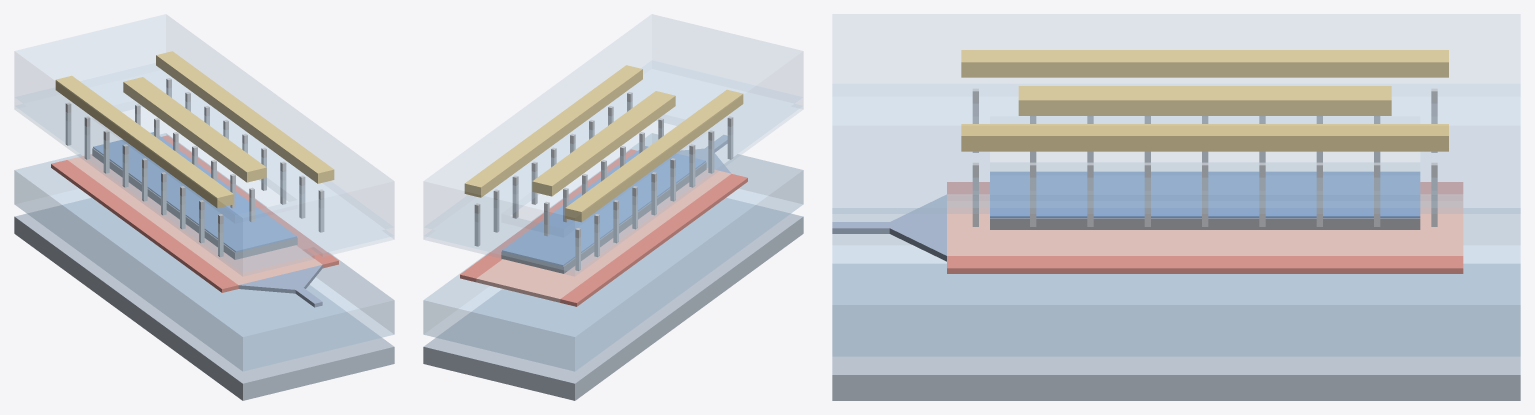
The model's file is stack-ge-x.glb.
3 renders of one model, left to right at view 1: azimuth 30°, elevation 25°; view 2: azimuth 150°, elevation 25°; view 3: azimuth 270°, elevation 25°, orthographic. The views are drawn at different scales.
Visible parts, largest first — view 1: cladx, sisub, box, metal1, nge, pdop, wplug, pp, si, gei; view 2: cladx, sisub, box, metal1, pdop, nge, wplug, pp, gei, si; view 3: cladx, sisub, box, metal1, nge, pdop, pp, wplug, gei, si.
Boxes of the visible parts, <box> form: cladx: <box>14,14,394,276</box>; sisub: <box>14,198,394,400</box>; box: <box>14,133,394,371</box>; metal1: <box>55,51,334,208</box>; nge: <box>93,132,296,252</box>; pdop: <box>67,154,321,284</box>; wplug: <box>65,78,324,257</box>; pp: <box>51,135,338,292</box>; si: <box>238,264,322,307</box>; gei: <box>92,148,297,259</box>; cladx: <box>423,14,803,276</box>; sisub: <box>423,198,803,400</box>; box: <box>423,133,803,371</box>; metal1: <box>464,65,743,222</box>; pdop: <box>476,168,731,302</box>; nge: <box>502,146,705,266</box>; wplug: <box>474,92,733,270</box>; pp: <box>460,149,747,306</box>; gei: <box>501,162,706,273</box>; si: <box>676,135,731,173</box>; cladx: <box>832,14,1520,213</box>; sisub: <box>832,263,1520,400</box>; box: <box>832,208,1520,356</box>; metal1: <box>961,50,1448,151</box>; nge: <box>990,171,1420,218</box>; pdop: <box>947,194,1463,255</box>; pp: <box>947,182,1463,273</box>; wplug: <box>972,88,1437,226</box>; gei: <box>990,218,1420,229</box>; si: <box>832,194,946,261</box>.
Size of the model in its own units: 9.2 by 10.6 by 24.
